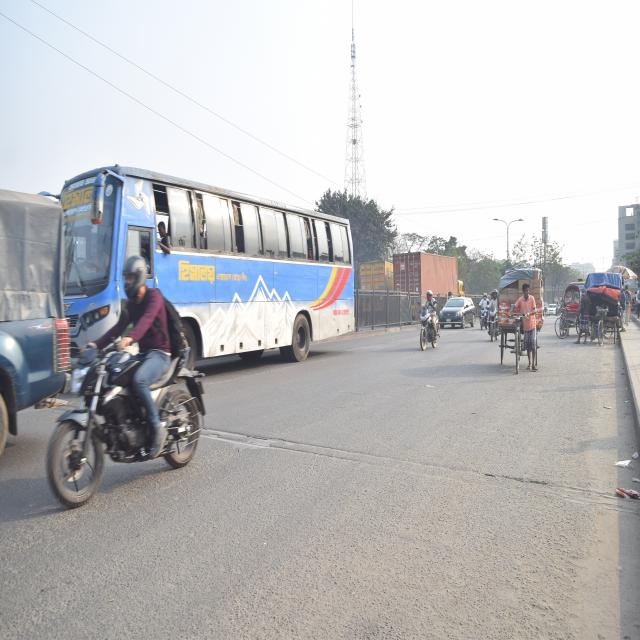bus: (54, 170, 358, 377)
car: (439, 293, 474, 337), (545, 298, 557, 319)
motorbike: (46, 309, 207, 527), (411, 303, 444, 356), (484, 296, 501, 345), (477, 296, 490, 331)
